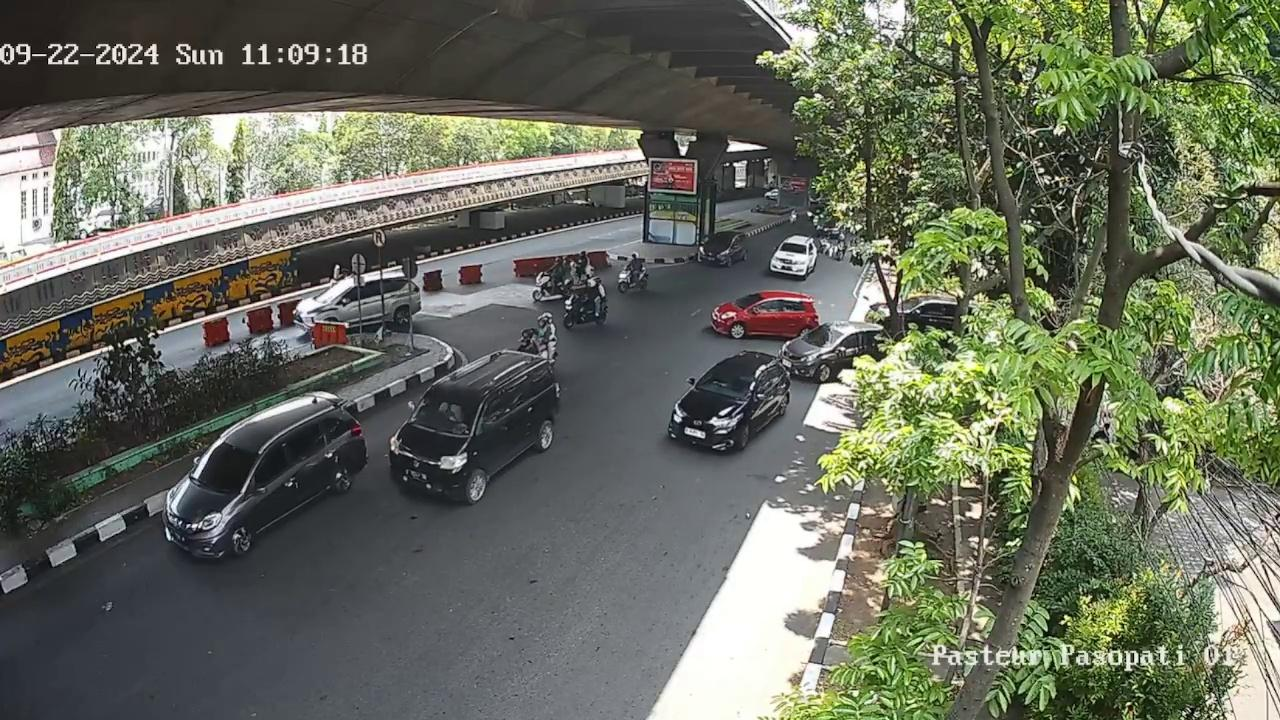pakai: (434, 402, 463, 422)
windshield: (407, 393, 483, 433), (192, 445, 262, 487), (697, 367, 753, 400)
